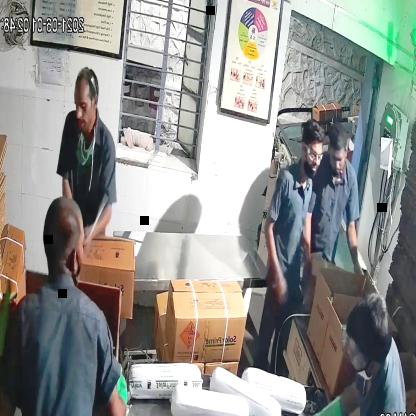goggles: (300, 142, 326, 165)
no_goggles: (71, 95, 102, 118)
